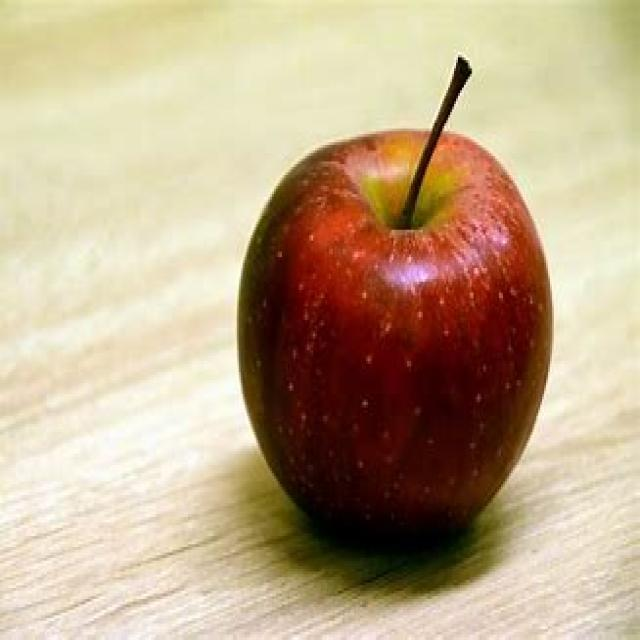Apple: (232, 54, 558, 542)
